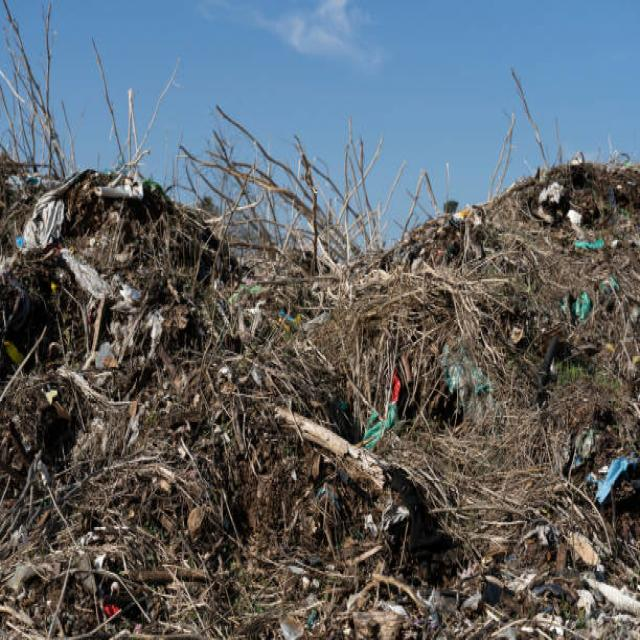trash: (20, 155, 510, 602)
